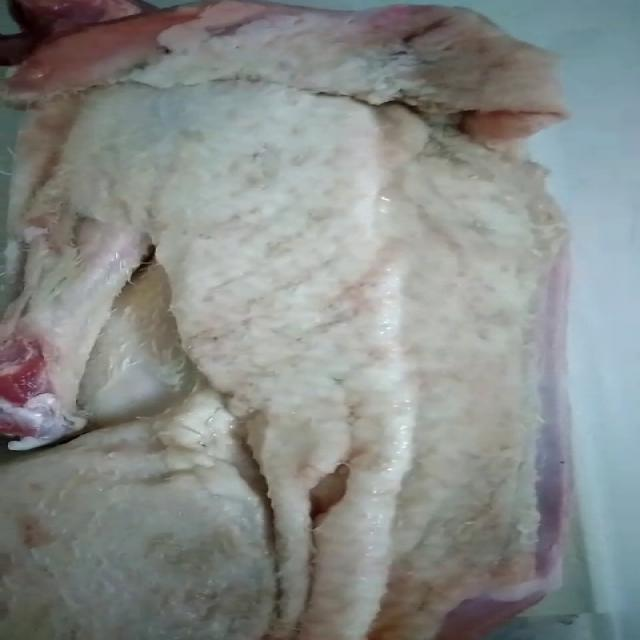chicken: (0, 0, 581, 640)
